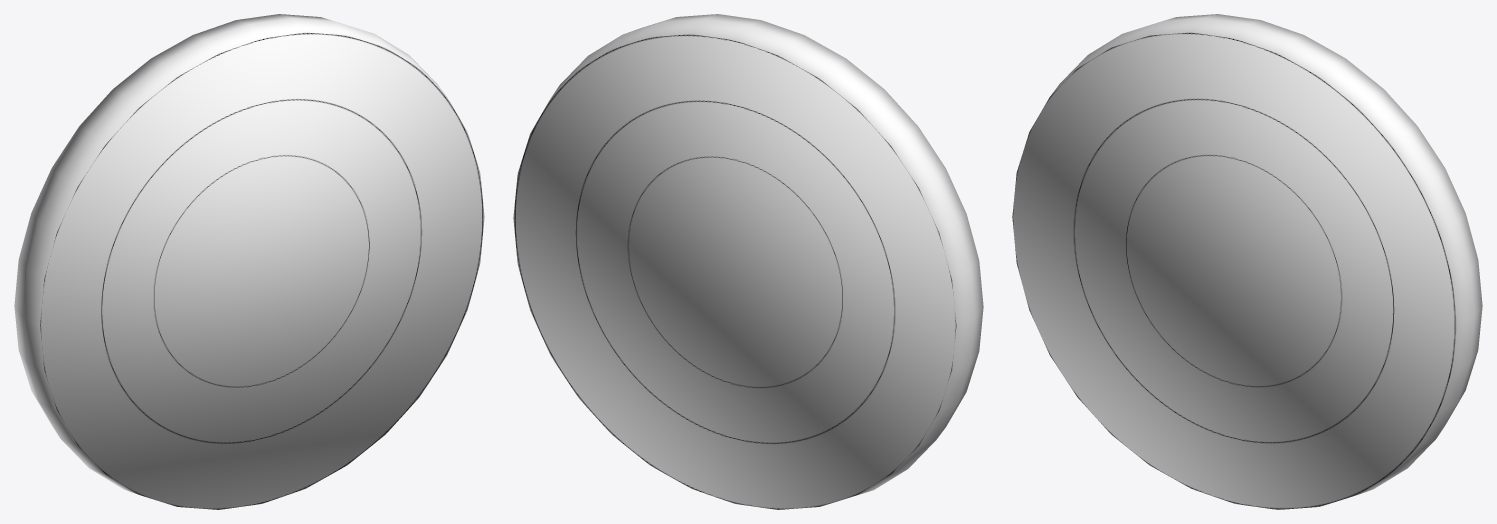
Rendered from Cebolla.fbx.
3 renders of one model, left to right at view 1: azimuth 30°, elevation 25°; view 2: azimuth 150°, elevation 25°; view 3: azimuth 330°, elevation 25°, orthographic.
Visible parts, largest first — view 1: Cebolla.003; view 2: Cebolla.003; view 3: Cebolla.003.
Part boxes in pixels (bbox=[...]): Cebolla.003: bbox=[14, 14, 484, 509]; Cebolla.003: bbox=[513, 14, 983, 509]; Cebolla.003: bbox=[1012, 14, 1482, 509].
Size of the model in its own units: 34.32 by 34.32 by 3.47.
